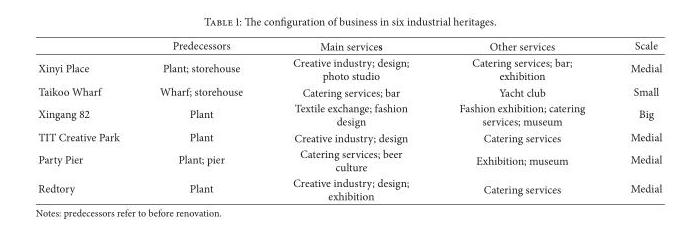table: (37, 37, 661, 203)
table column: (433, 37, 607, 203), (267, 37, 433, 203), (138, 37, 267, 203), (37, 37, 138, 203), (607, 37, 661, 203)
table column header: (37, 37, 661, 54)
table row: (37, 54, 661, 83), (37, 99, 661, 128), (37, 145, 661, 174), (37, 174, 661, 203), (37, 37, 661, 54), (37, 128, 661, 145), (37, 83, 661, 99)
